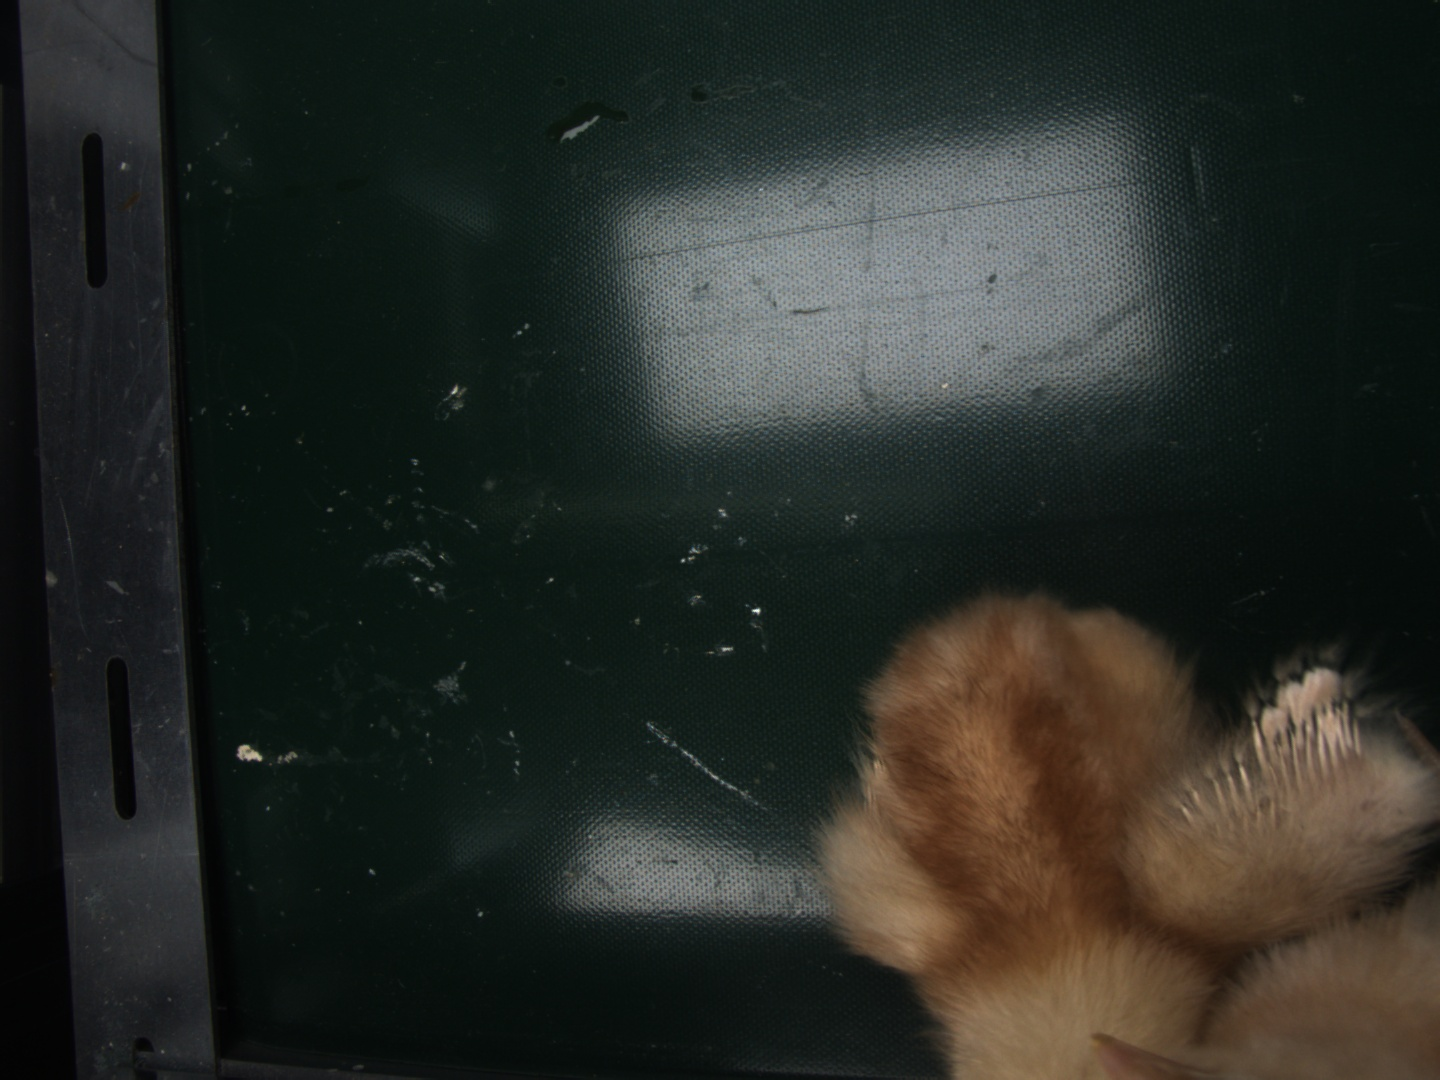female: (1250, 668, 1364, 792)
